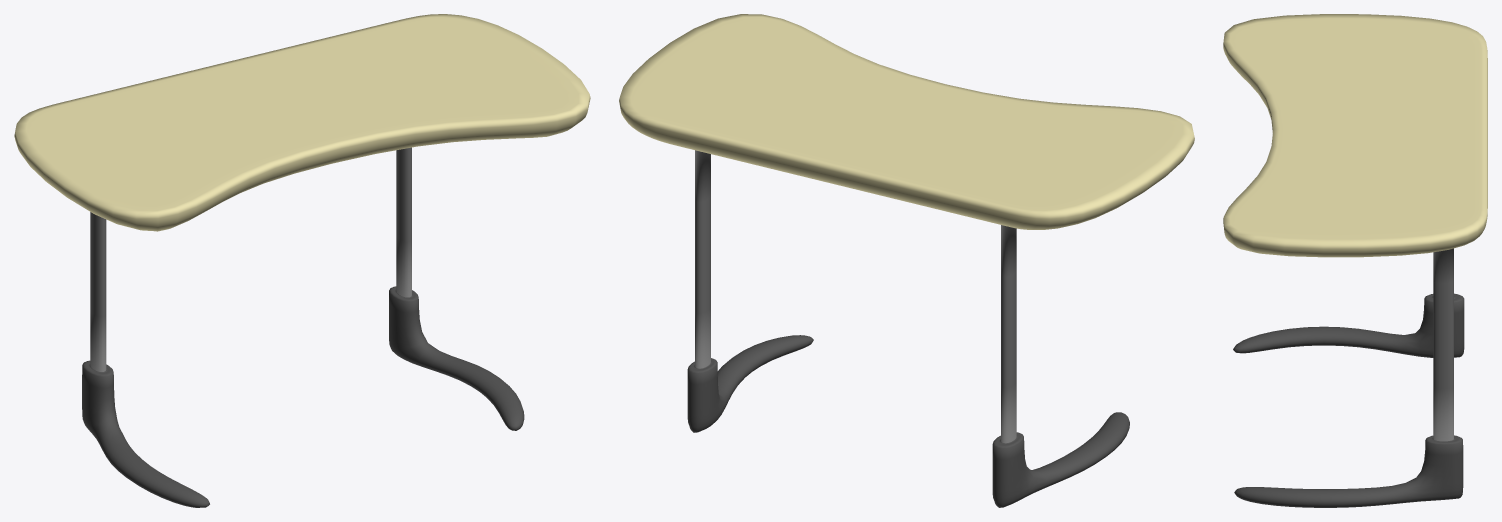
The model's file is OfficeDesk.fbx.
3 views of the same model, side by side, from view 1: azimuth 30°, elevation 25°; view 2: azimuth 150°, elevation 25°; view 3: azimuth 270°, elevation 25° (orthographic). The views are drawn at different scales.
Parts seen in each view (by area): view 1: Cube; view 2: Cube; view 3: Cube.
Boxes of the visible parts, <box> form: Cube: <box>14,14,590,507</box>; Cube: <box>619,14,1194,507</box>; Cube: <box>1223,14,1487,507</box>.
Size of the model in its own units: 407 by 245 by 197.
